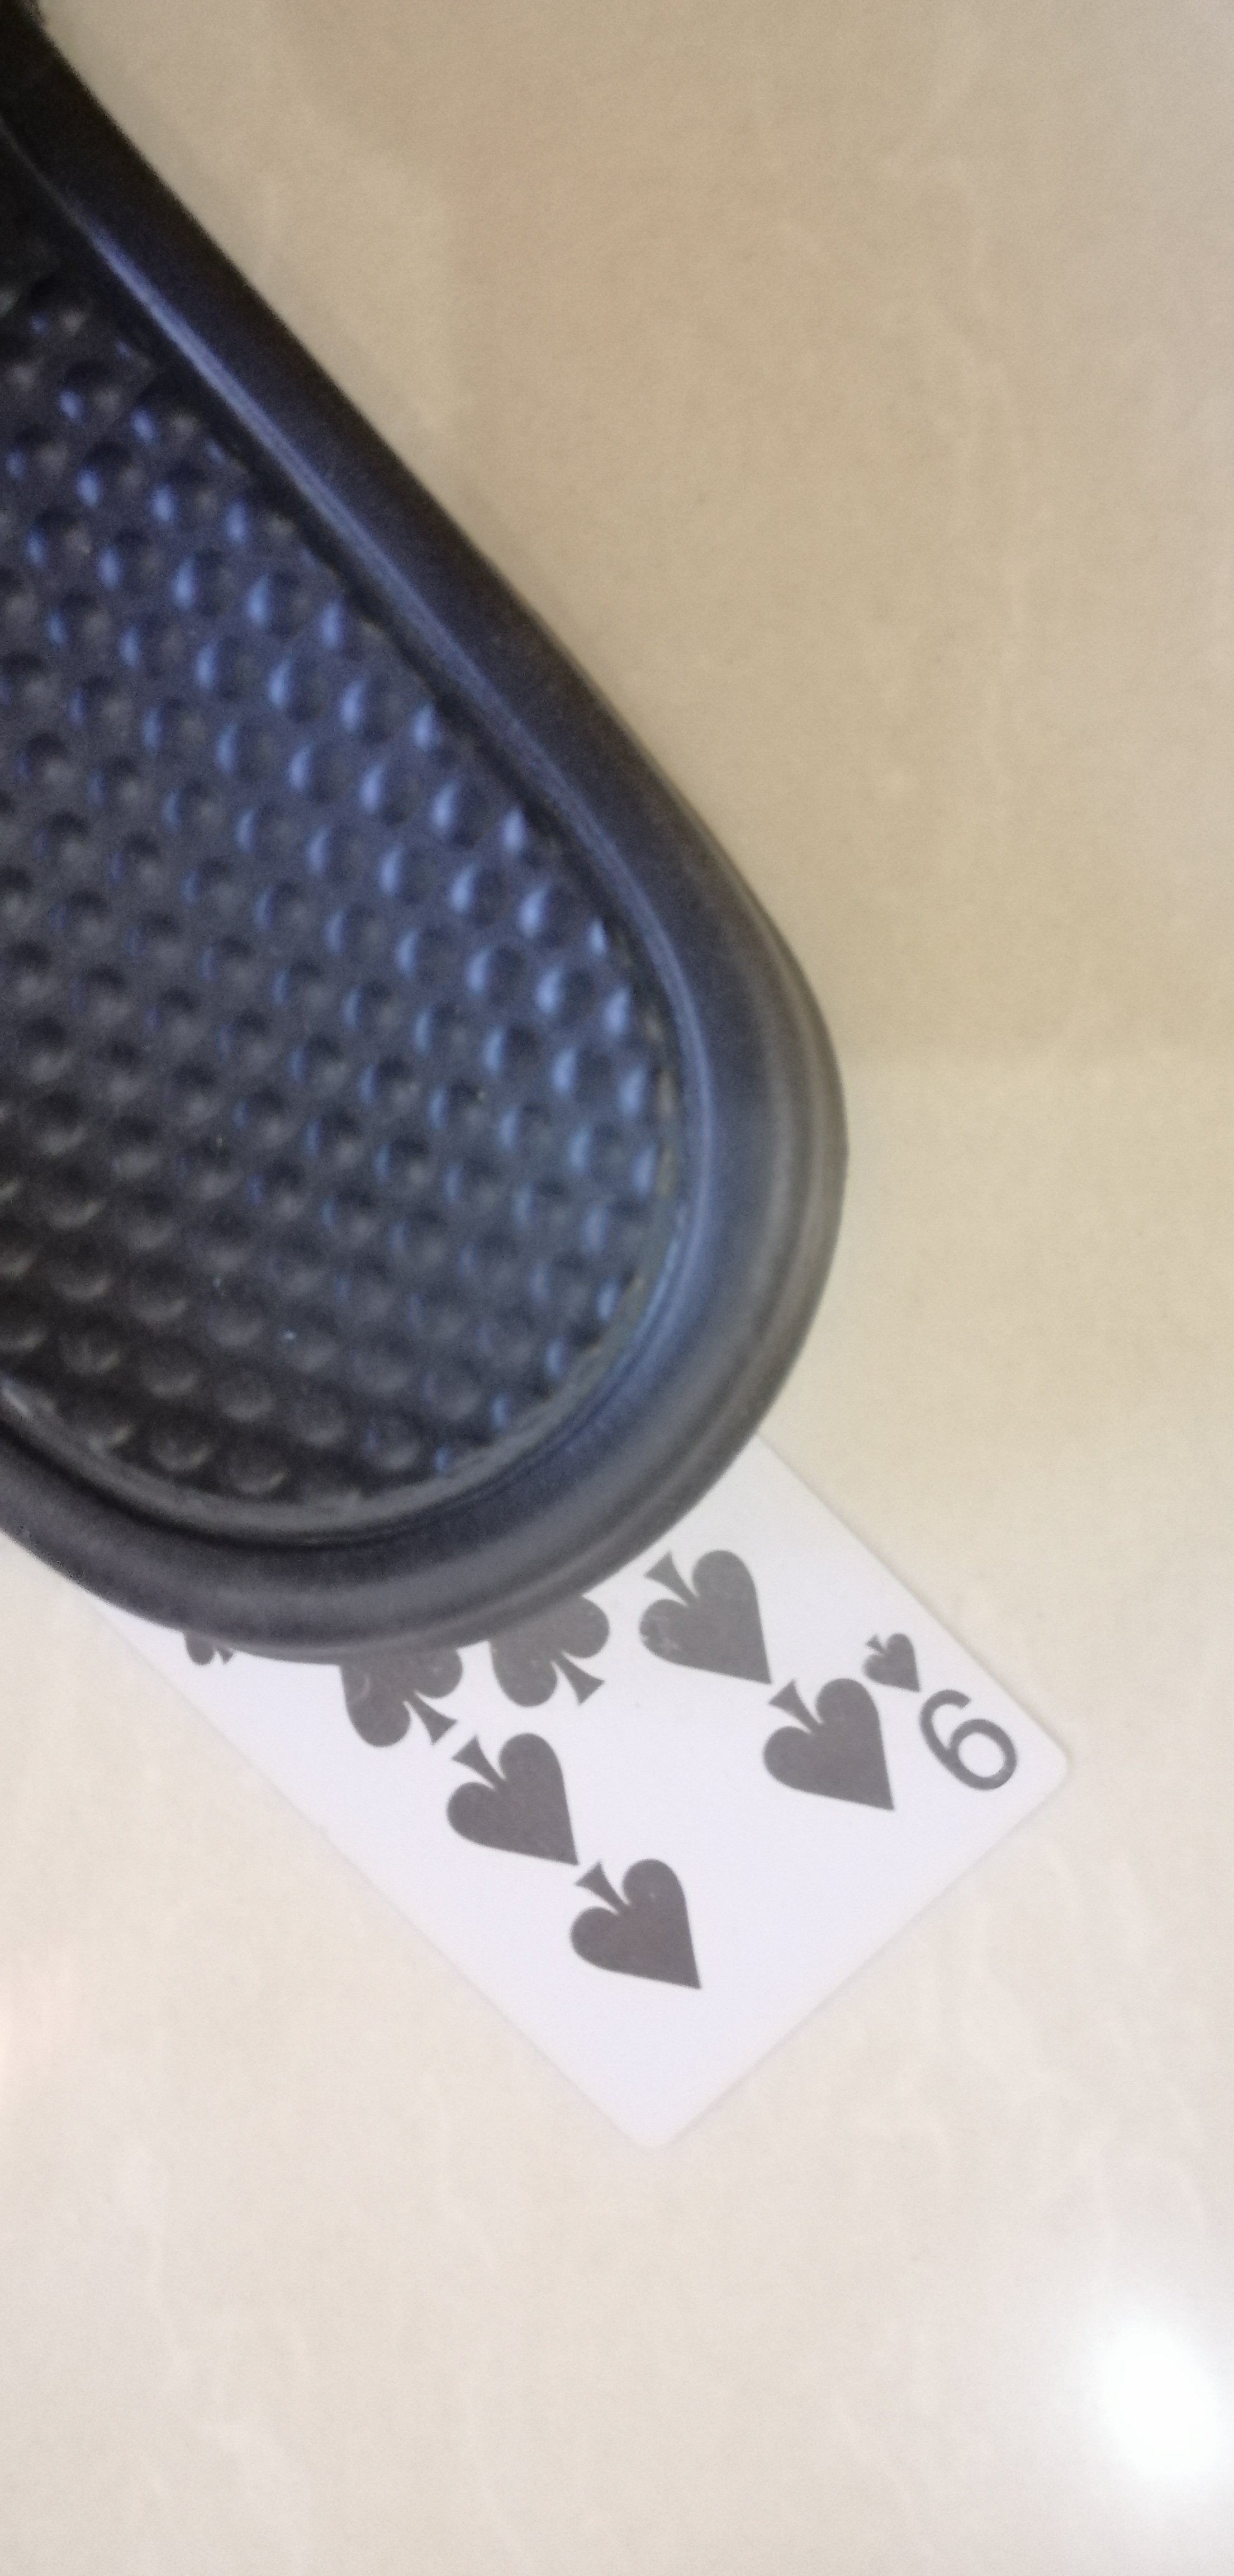nine: (69, 1454, 1114, 2127)
